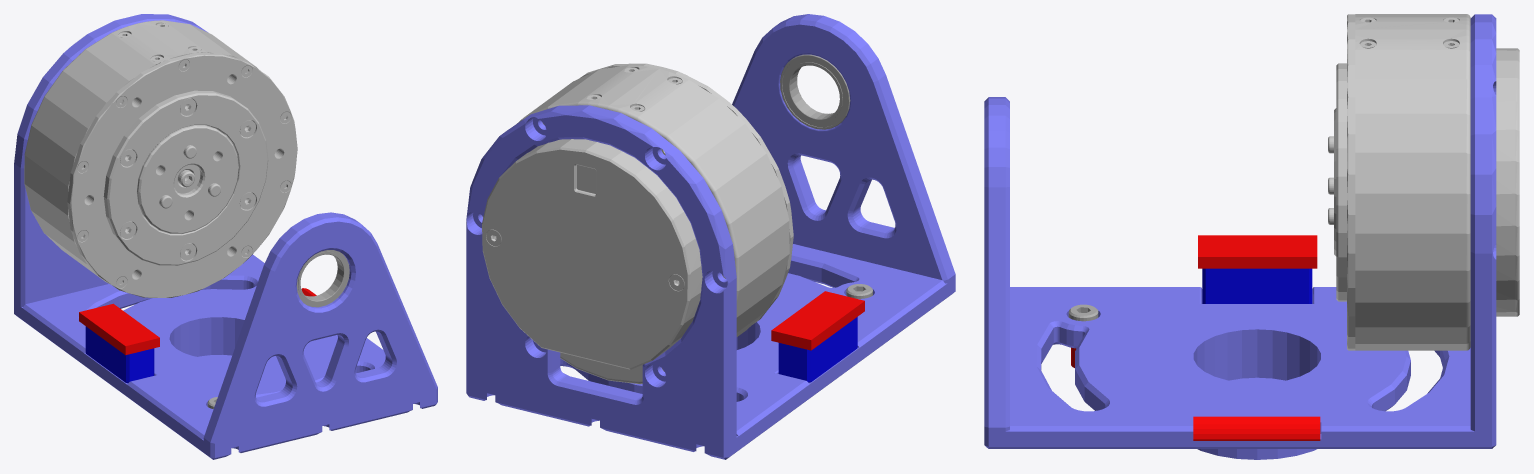
File: shoulder_link.dae
3 renders of one model, left to right at view 1: azimuth 30°, elevation 25°; view 2: azimuth 150°, elevation 25°; view 3: azimuth 270°, elevation 25°, orthographic. The views are drawn at different scales.
Parts seen in each view (by area): view 1: node6, node5, node0, node8, node1, node9, node4; view 2: node6, node8, node5, node0, node1, node4, node9; view 3: node0, node6, node8, node5, node1, node9, node2.
Part boxes in pixels (box(x1,y1,x2,y2)): node6: box(24, 20, 297, 297); node5: box(203, 212, 437, 445); node0: box(14, 254, 437, 459); node8: box(14, 14, 208, 306); node1: box(79, 303, 159, 355); node9: box(85, 326, 154, 383); node4: box(296, 250, 349, 307); node6: box(482, 63, 793, 384); node8: box(466, 105, 736, 443); node5: box(732, 14, 955, 283); node0: box(466, 244, 955, 459); node1: box(771, 291, 864, 350); node4: box(780, 54, 850, 129); node9: box(778, 317, 857, 382); node0: box(984, 287, 1496, 459); node6: box(1328, 14, 1519, 350); node8: box(1470, 14, 1496, 431); node5: box(984, 97, 1009, 431); node1: box(1198, 235, 1317, 268); node9: box(1202, 268, 1312, 303); node2: box(1193, 416, 1320, 440).
Bounding box in the file's own units: 0.082 × 0.1255 × 0.102.
